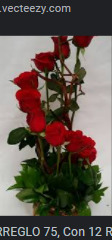RedRose: (16, 87, 45, 108), (11, 71, 44, 88), (49, 35, 72, 59), (46, 121, 69, 145), (24, 103, 44, 130), (81, 136, 99, 163), (32, 51, 56, 71), (65, 128, 83, 153), (74, 35, 99, 52)
